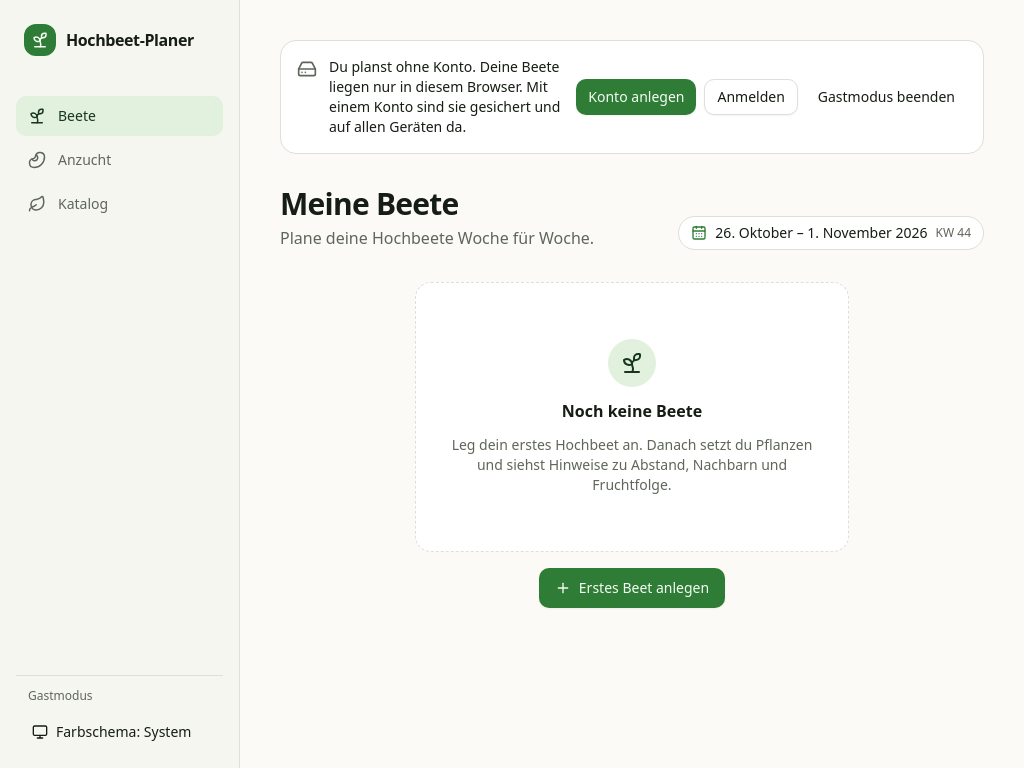
App › guest mode › ends guest mode with „Daten behalten“
This screenshot has width=1024, height=768.
Click the button "Gastmodus beenden" at [886, 97], box [806,79,967,115]
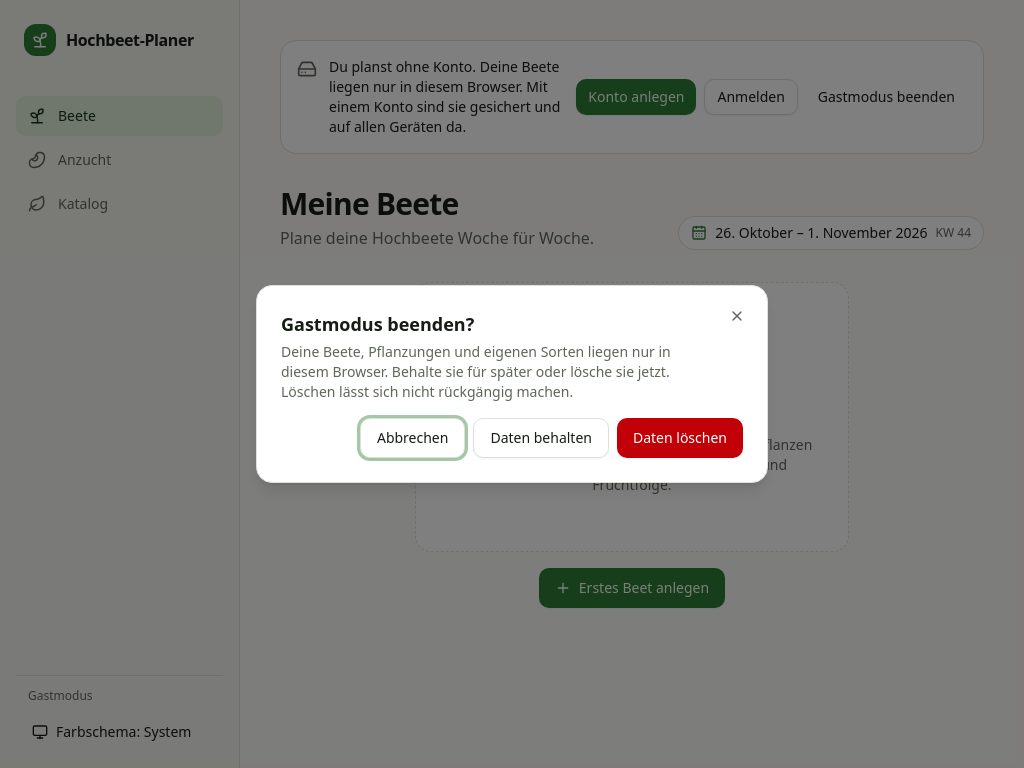
Click the button "Daten behalten" at [541, 438], box [473,418,609,458]
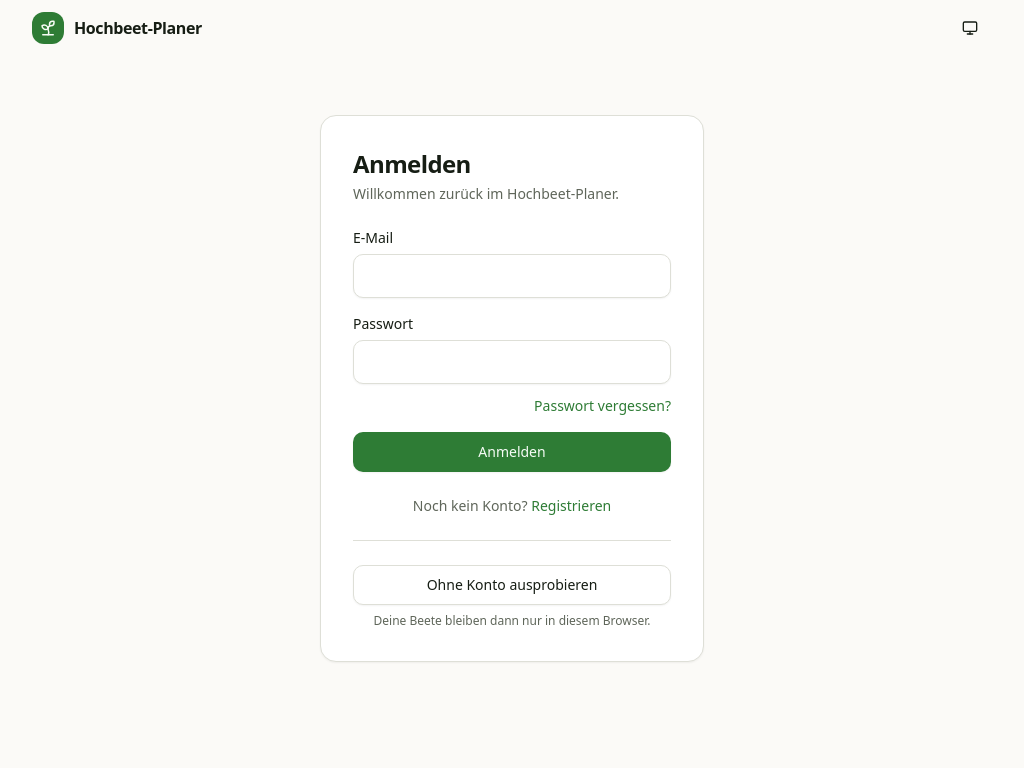
Check: the heading "Anmelden" is shown, box [353,146,471,180]
